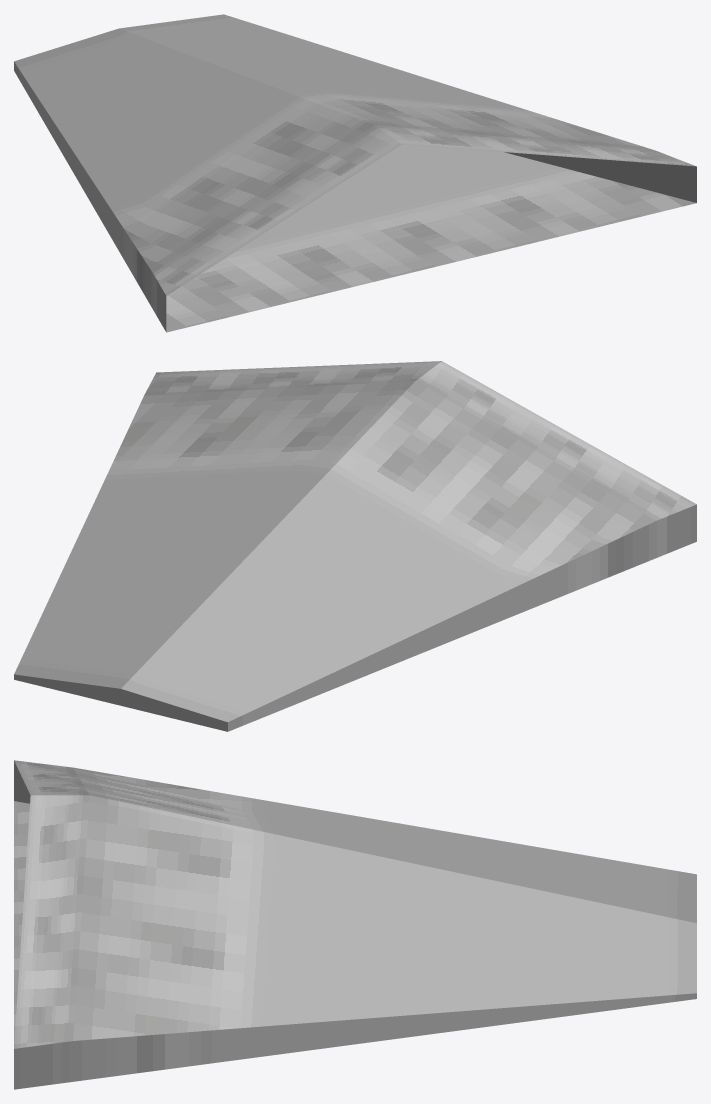
File: PaperFilter.fbx
3 views of the same model, one above another, from view 1: azimuth 30°, elevation 25°; view 2: azimuth 150°, elevation 25°; view 3: azimuth 270°, elevation 25° (orthographic). The views are drawn at different scales.
Visible parts, largest first — view 1: PaperFilter; view 2: PaperFilter; view 3: PaperFilter.
Part boxes in pixels (box(x1,y1,x2,y2)): PaperFilter: box(14, 14, 696, 332); PaperFilter: box(14, 361, 696, 731); PaperFilter: box(14, 760, 696, 1089).
Size of the model in its own units: 20.77 by 4.62 by 20.77.
